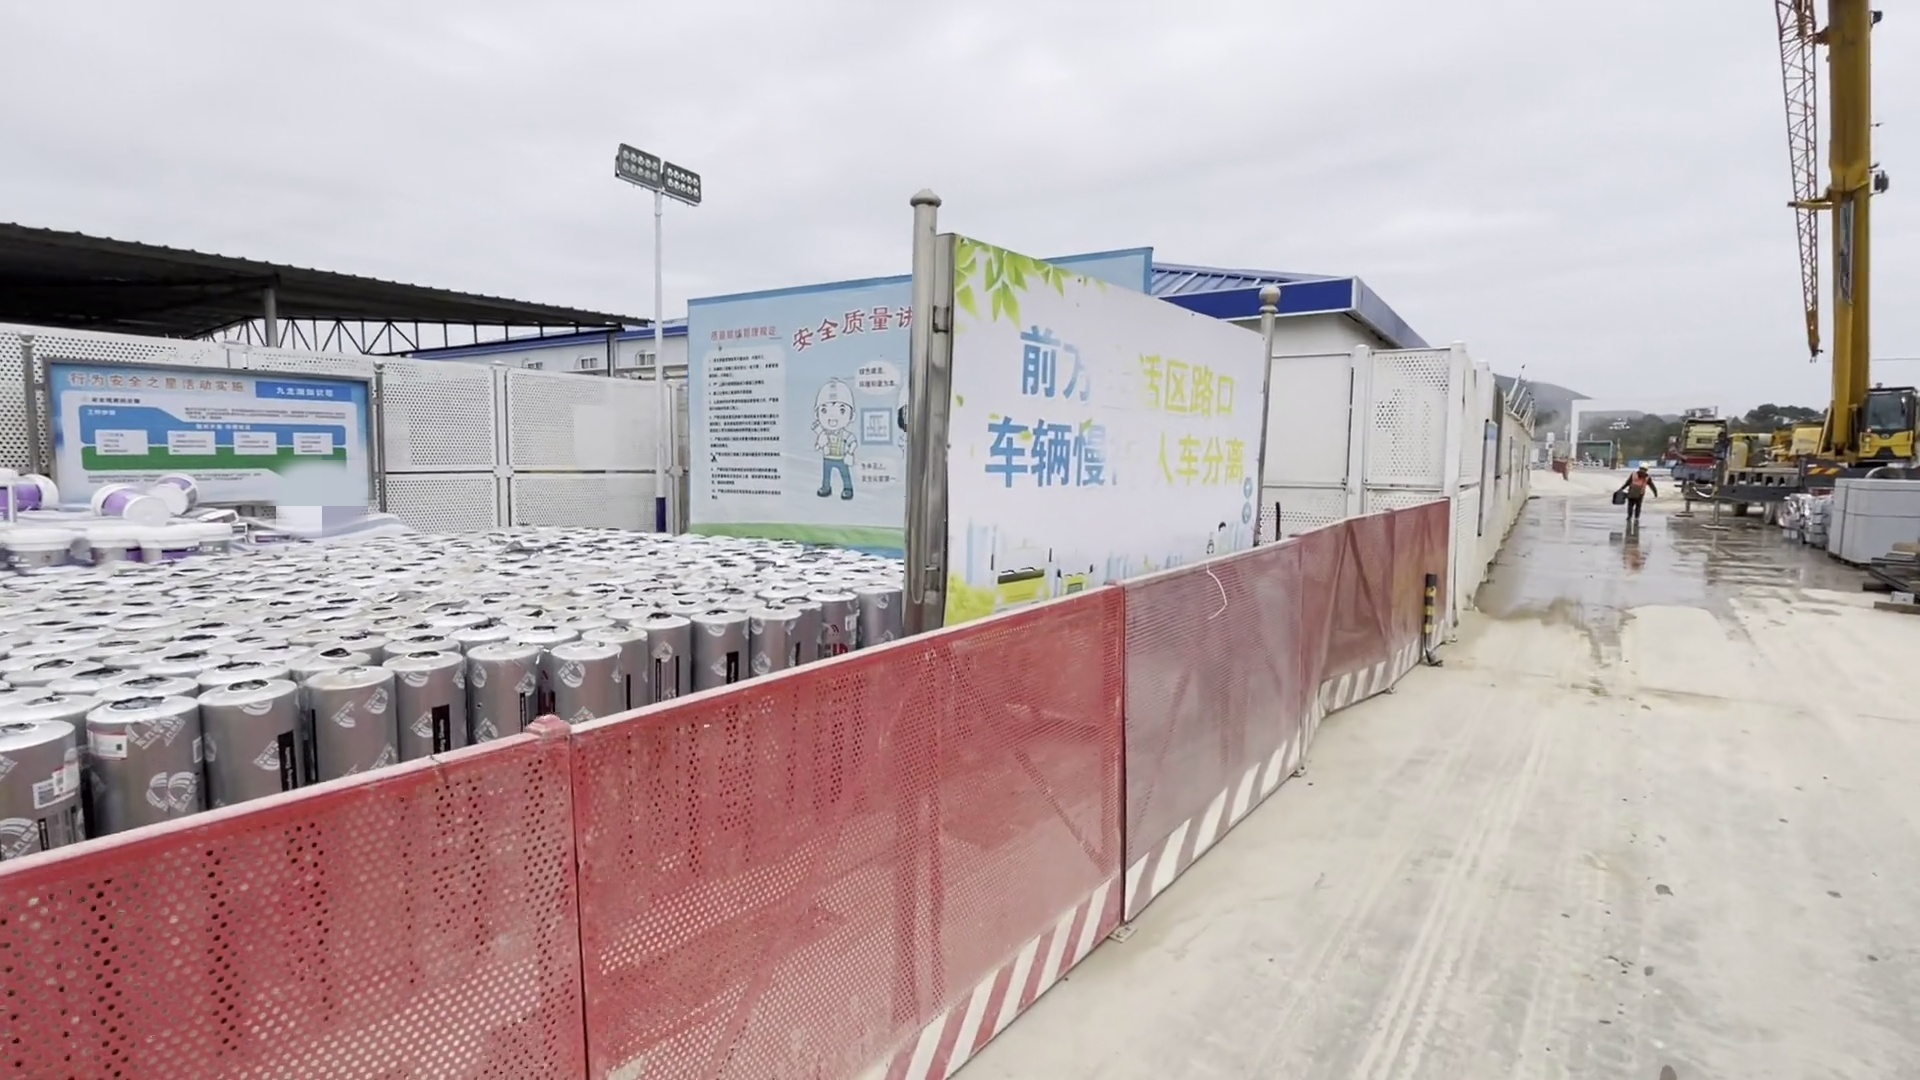helmet: (1634, 462, 1652, 474)
person: (1621, 461, 1649, 522)
vest: (1625, 472, 1649, 503)
